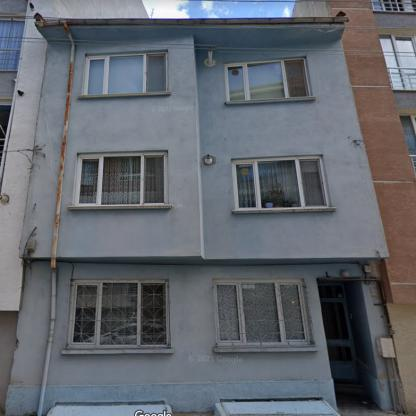door: (319, 284, 358, 378)
window: (67, 280, 170, 349), (213, 280, 311, 348), (233, 156, 329, 211), (73, 153, 167, 205), (224, 58, 309, 101), (83, 53, 167, 96), (380, 34, 414, 90), (1, 19, 24, 70), (400, 114, 415, 174), (372, 1, 414, 11)
